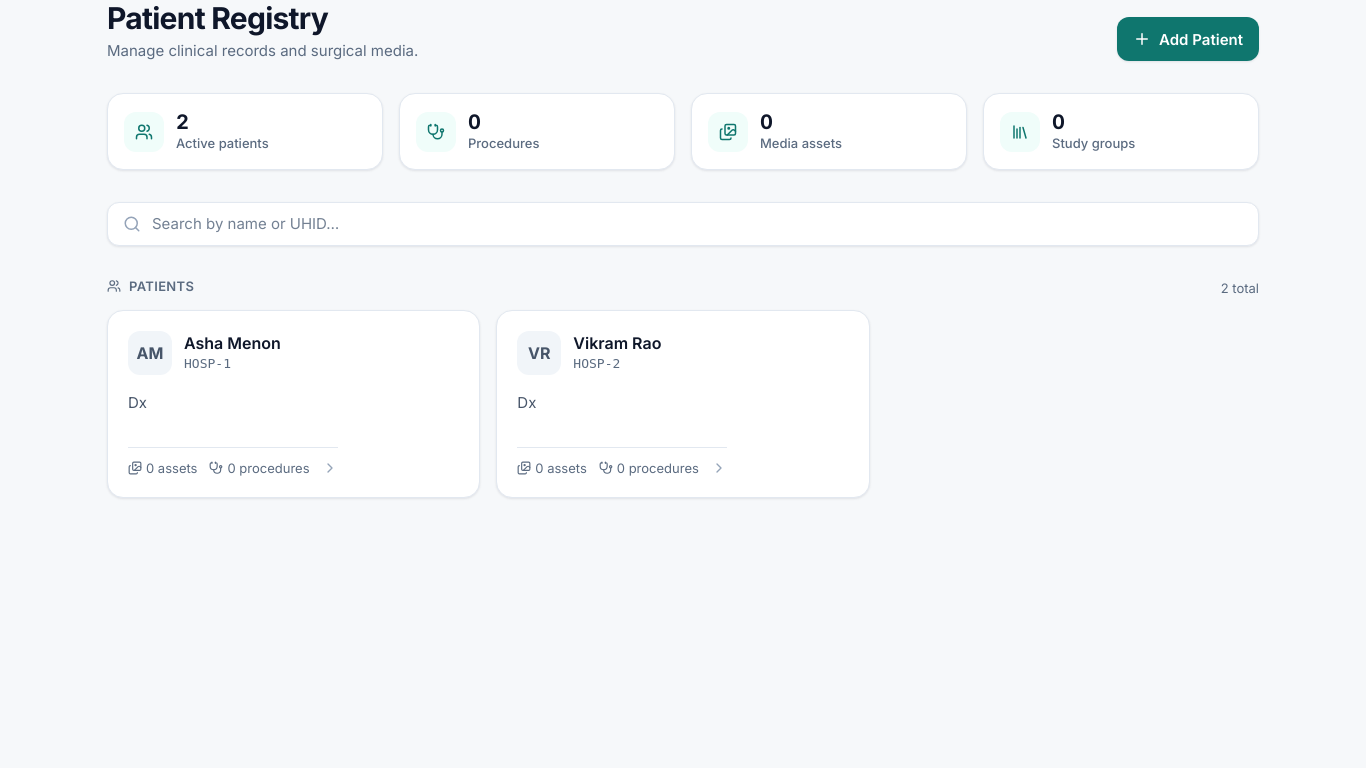
it: Dashboard › submits a new patient and surfaces save errors
Click the button "Add Patient" at x=1188, y=39, box [1117,17,1259,61]
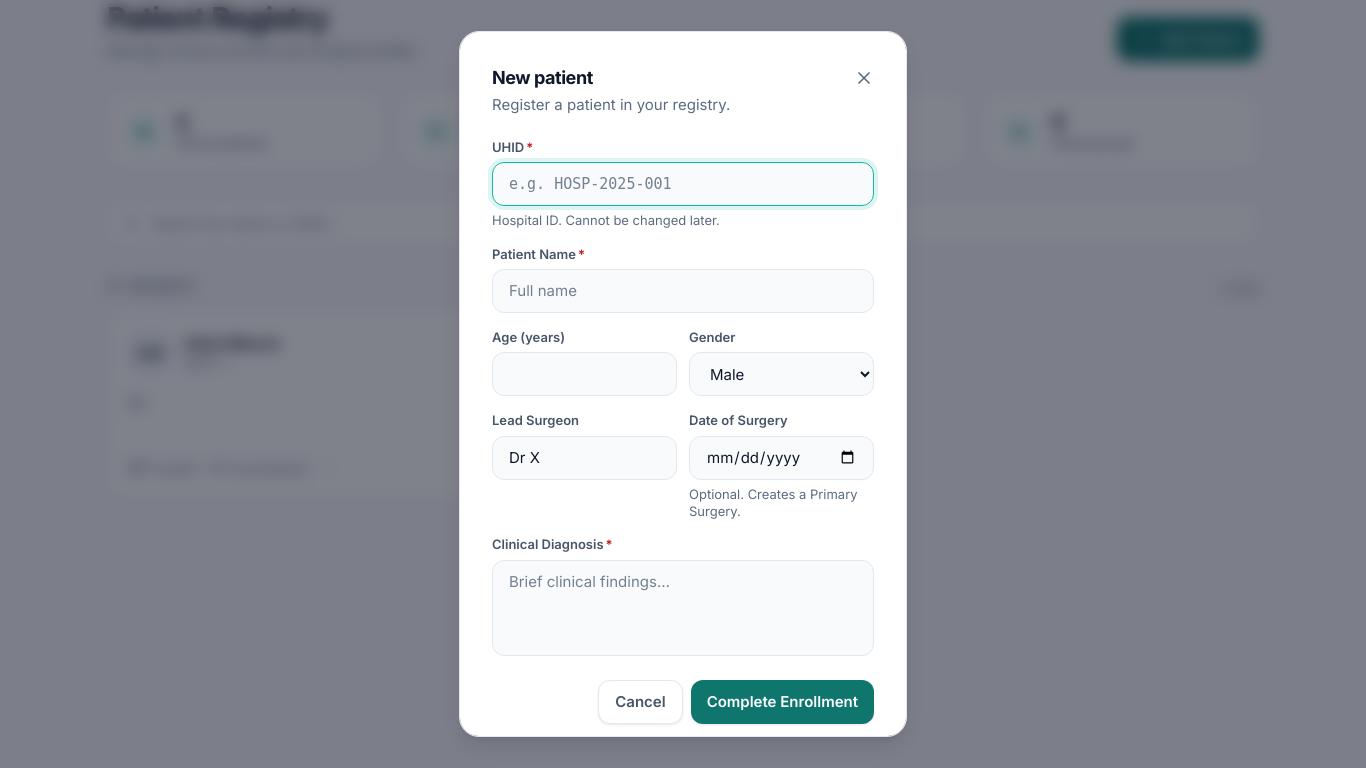
Now the field labelled "Lead Surgeon" holds "Dr X", box [492,436,677,480]
Type "HOSP-1" into the field labelled "UHID*" at x=683, y=184, box [492,162,874,206]
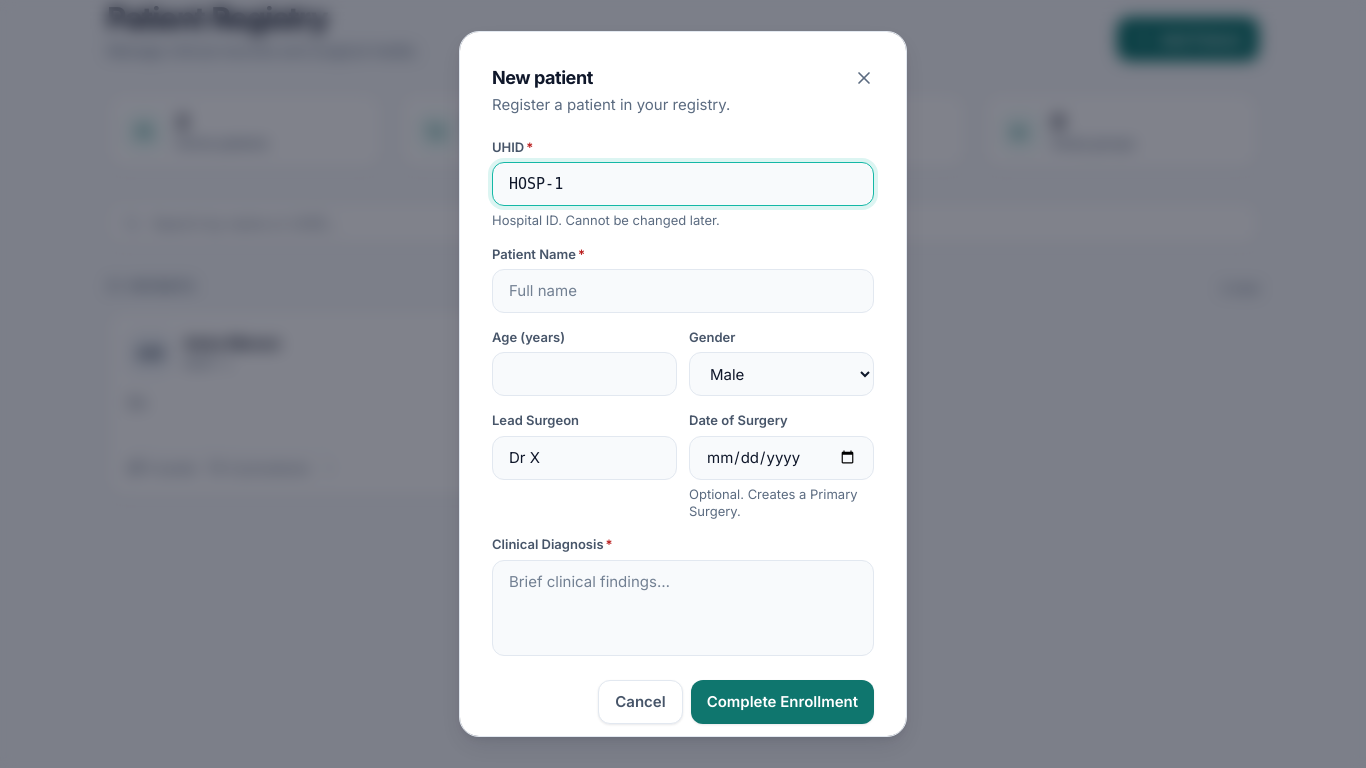
Type "Dup" into the field labelled "Patient Name*" at x=683, y=291, box [492,269,874,313]
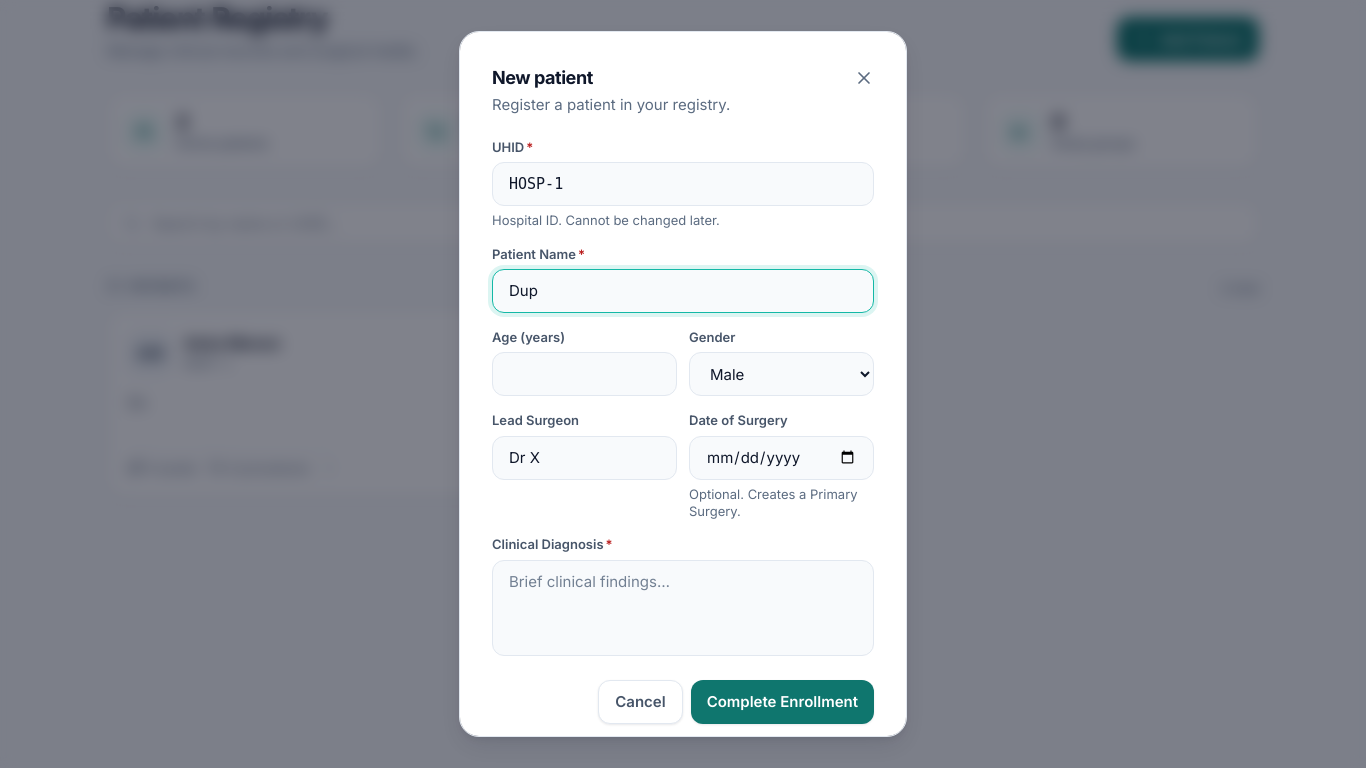
Type "Dx" into the text box labelled "Clinical Diagnosis*" at x=683, y=608, box [492,560,874,656]
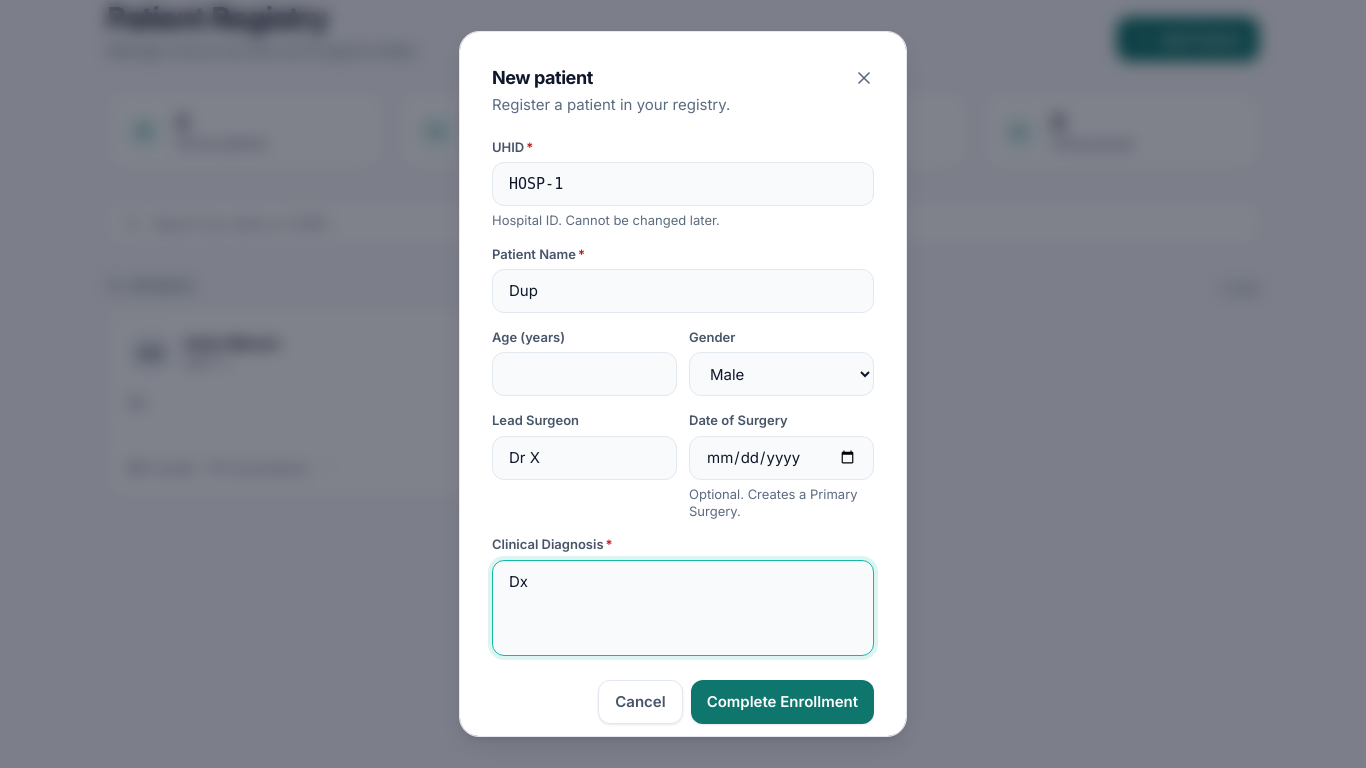
Click the button "Complete Enrollment" at x=782, y=702, box [691,680,874,724]
(page scrolled)
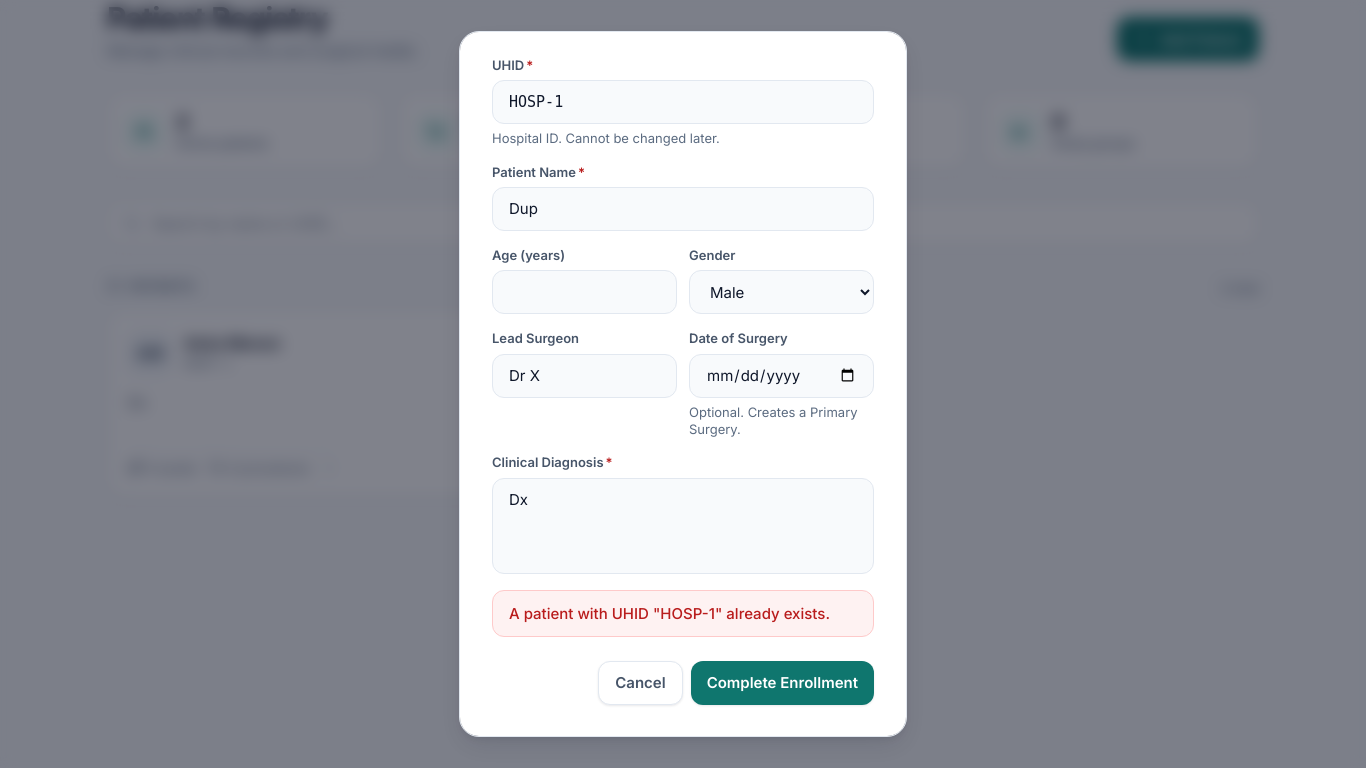
Now the dialog is shown, box [459,31,907,737]
Now the message shows "already exists", box [509,604,830,623]
Click the button "Complete Enrollment" at x=782, y=683, box [691,661,874,705]
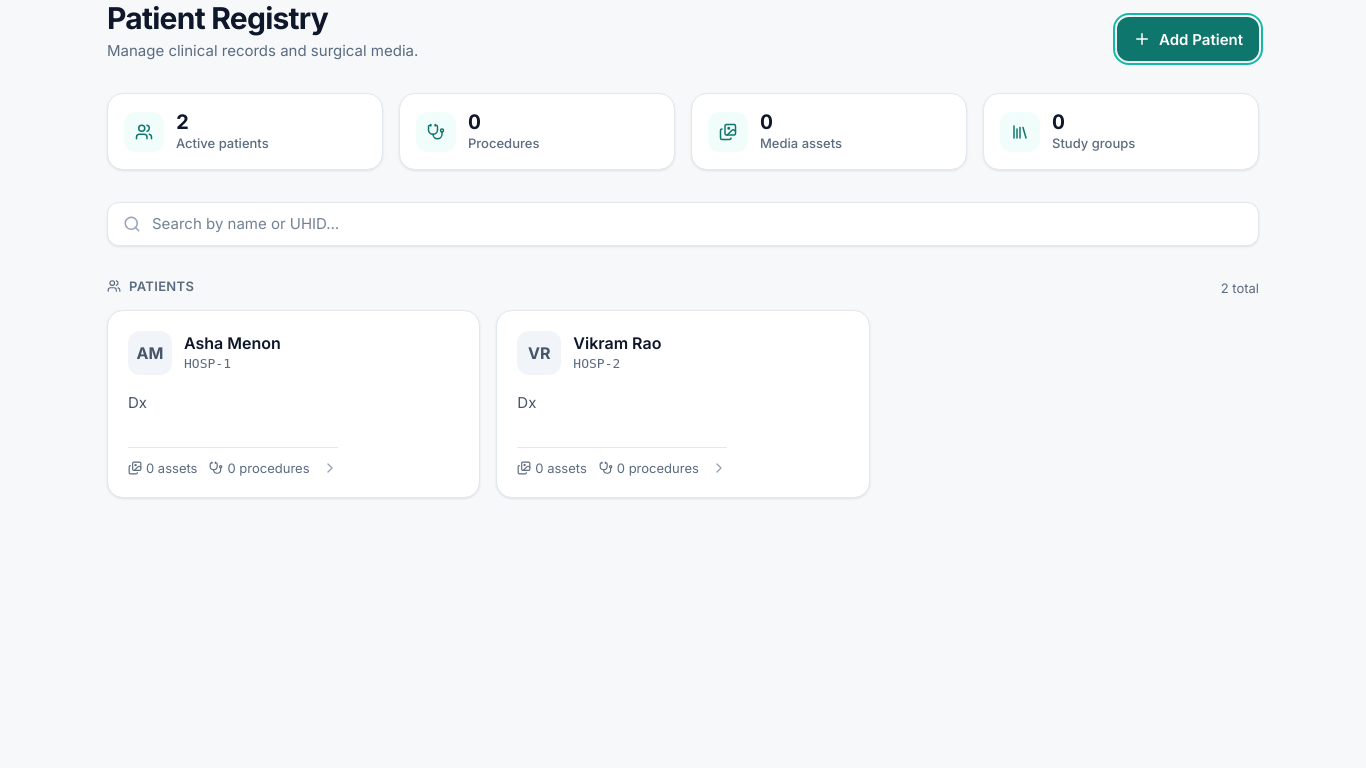
Now the dialog is gone
